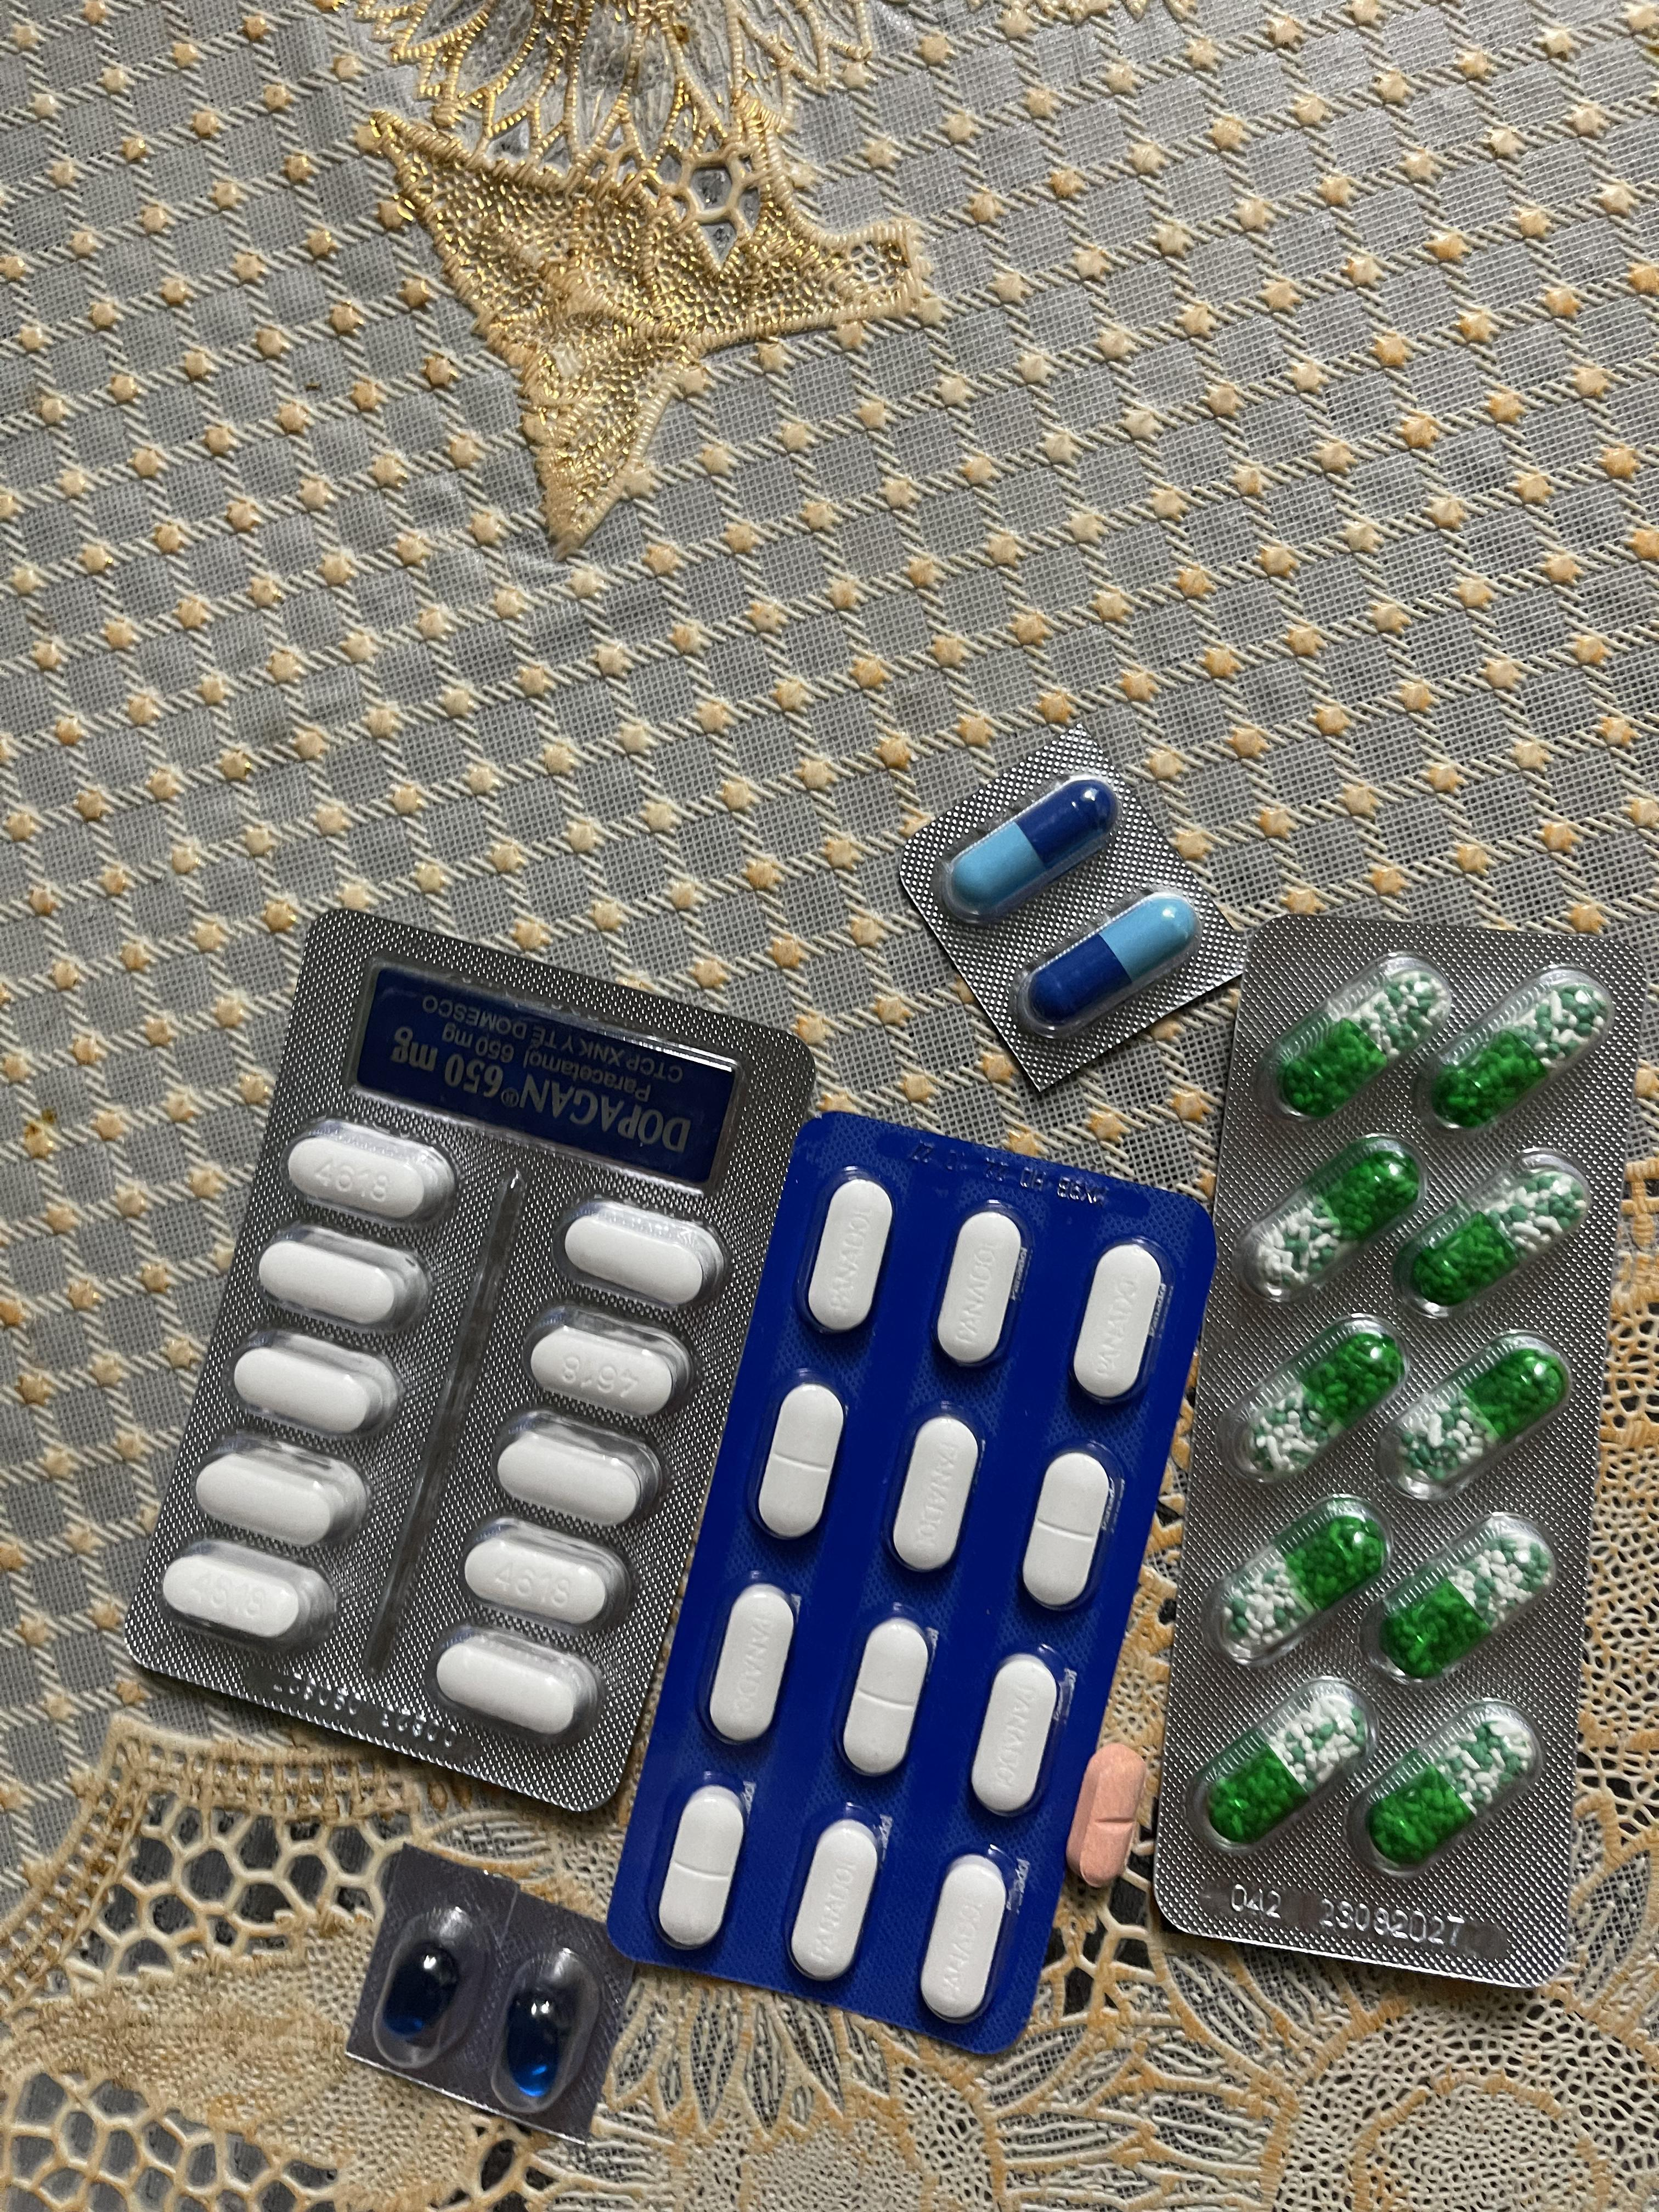Lincomyxin_500mg: (380, 1940, 460, 2041), (502, 1991, 563, 2097)
Loratadine_10mg: (1070, 1743, 1147, 1883)
Paracetamol_350mg: (971, 1653, 1063, 1817), (657, 1784, 742, 1956), (789, 1815, 878, 1980), (890, 1414, 981, 1575), (922, 1858, 1009, 2022), (1072, 1245, 1162, 1402), (842, 1616, 929, 1778), (1025, 1449, 1112, 1611), (934, 1211, 1025, 1366), (756, 1383, 843, 1541), (706, 1587, 789, 1749), (807, 1177, 894, 1332)
Paracetamol_500mg: (493, 1413, 662, 1531), (162, 1540, 333, 1649), (288, 1122, 460, 1223), (561, 1204, 718, 1310), (193, 1446, 356, 1548), (436, 1635, 591, 1737), (464, 1527, 619, 1629), (232, 1341, 387, 1437), (260, 1235, 416, 1329), (530, 1324, 674, 1420)
Paracetamol_650mg: (1368, 1512, 1556, 1684), (1368, 1707, 1534, 1865), (1406, 1163, 1586, 1308), (1274, 968, 1448, 1115), (1429, 984, 1605, 1127), (1209, 1686, 1368, 1844), (1222, 1508, 1385, 1656), (1396, 1348, 1561, 1491), (1248, 1331, 1406, 1479), (1263, 1146, 1424, 1285)
pill: (934, 773, 1117, 923), (1016, 883, 1194, 1024)
